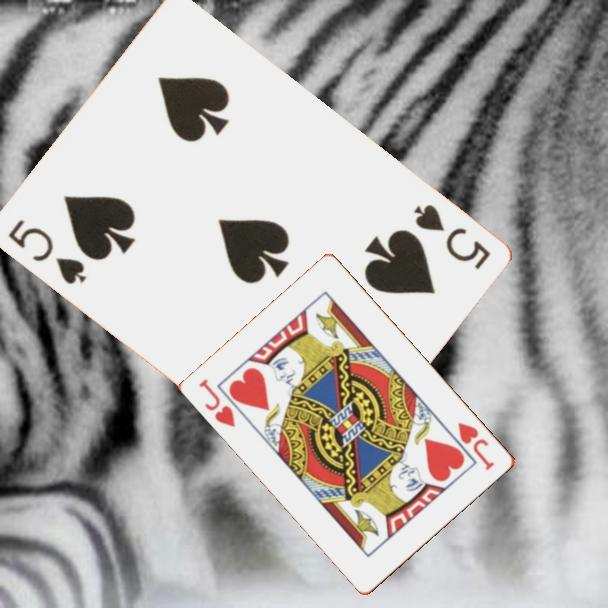h11: (454, 418, 498, 474), (195, 375, 239, 430)
s05: (409, 200, 493, 273), (4, 216, 89, 288)
